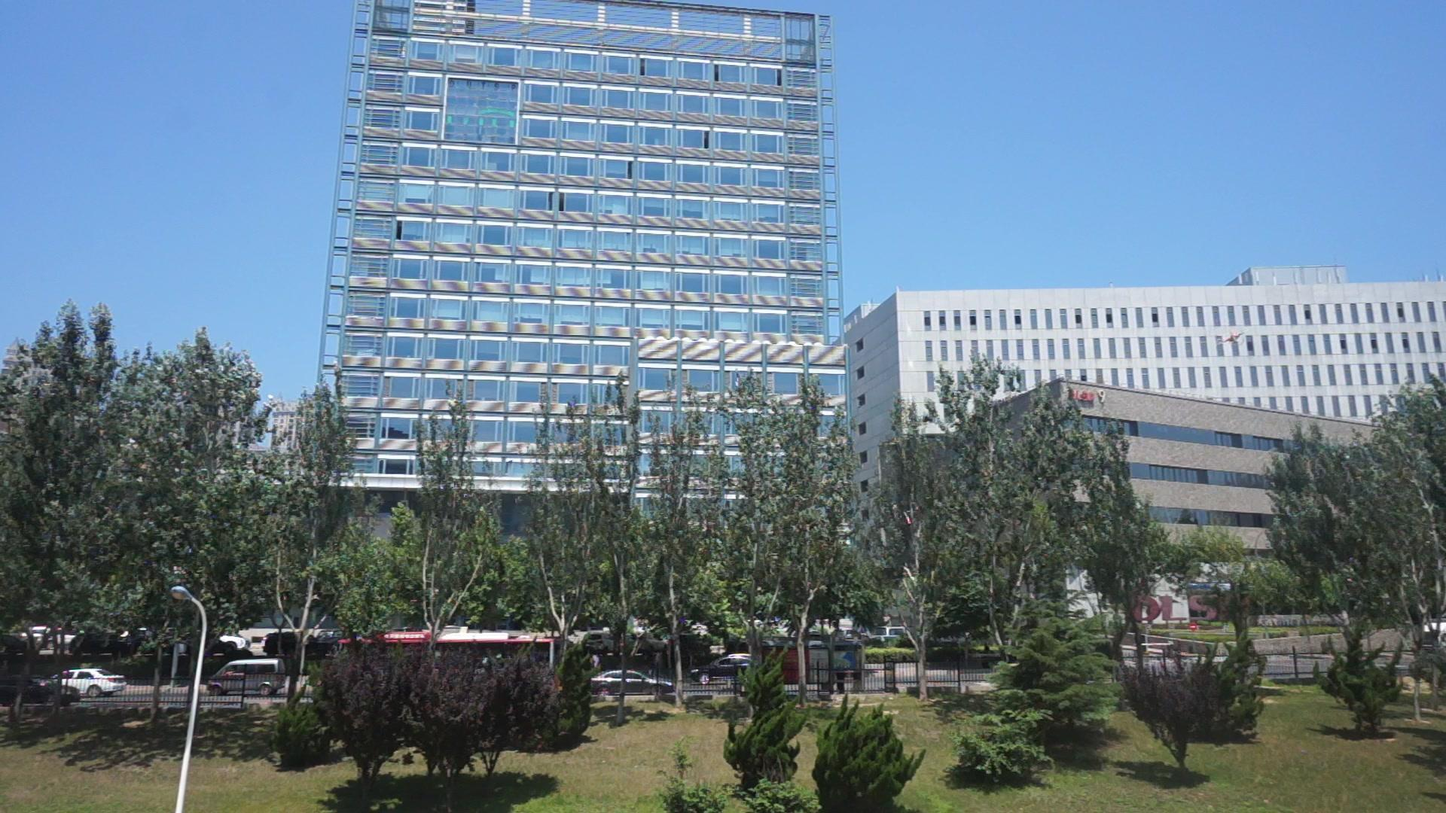UAV: (1223, 332, 1246, 346)
